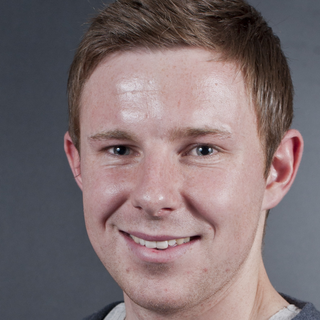eye: (175, 136, 228, 164), (96, 140, 144, 165)
